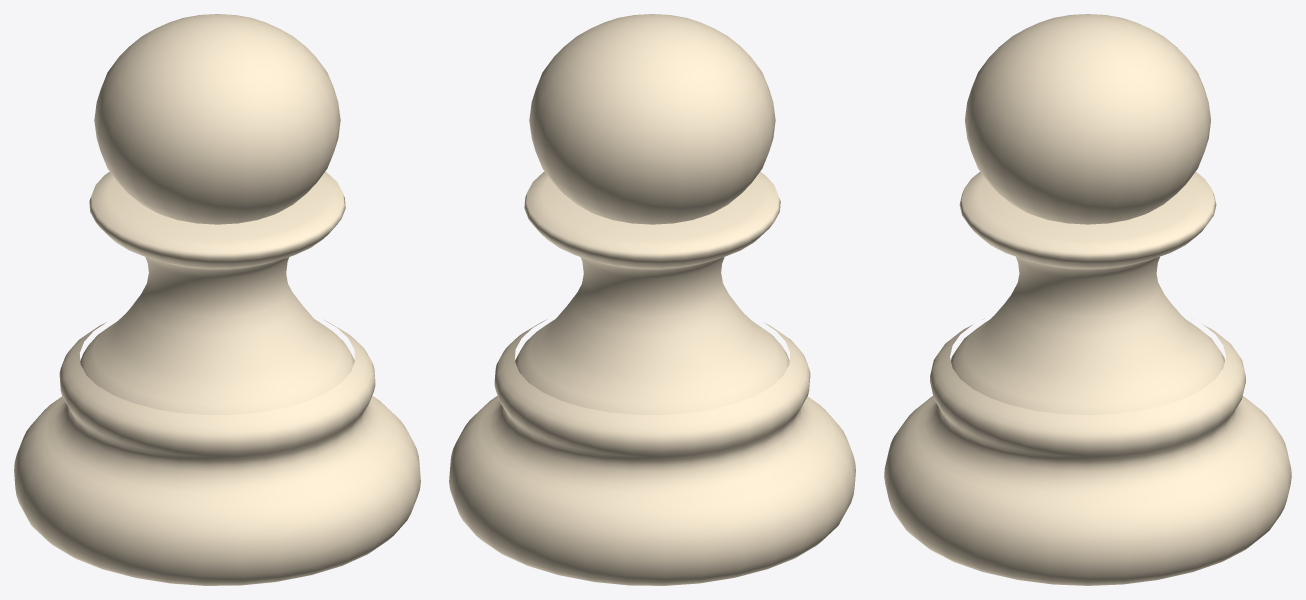
Rendered from pawn.glb.
The picture shows the model from 3 angles, left to right: view 1: azimuth 30°, elevation 25°; view 2: azimuth 150°, elevation 25°; view 3: azimuth 270°, elevation 25°; orthographic projection.
Visible parts, largest first — view 1: pawn-ivory-porcelain; view 2: pawn-ivory-porcelain; view 3: pawn-ivory-porcelain.
Part boxes in pixels (x1=…): pawn-ivory-porcelain: x1=14, y1=14, x2=420, y2=585; pawn-ivory-porcelain: x1=449, y1=14, x2=855, y2=585; pawn-ivory-porcelain: x1=884, y1=14, x2=1291, y2=585.
Size of the model in its own units: 0.543 by 0.72 by 0.543.
